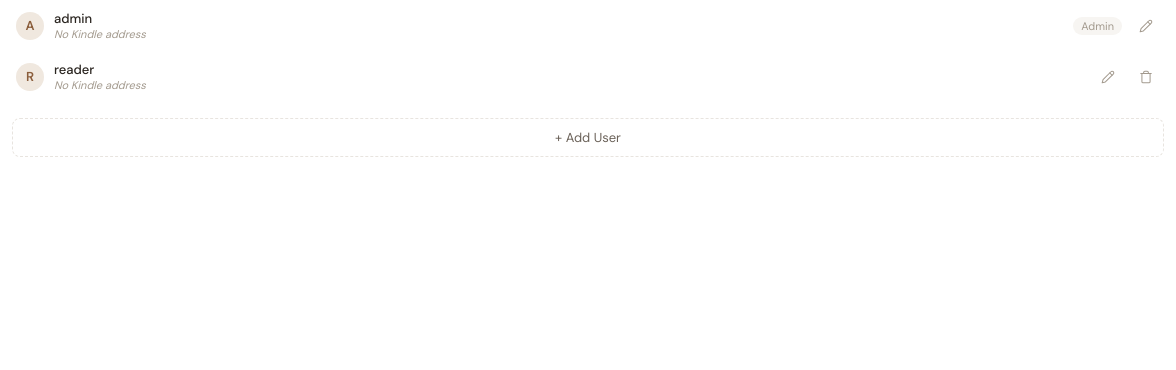
Test: AdminUsersScreen › leaves the password unchanged when the new-password box is left blank
This screenshot has width=1176, height=370.
Expected: the text "reader" is shown, [54,61,94,78]
Click the button named "Edit reader": [1108, 76] box [1094,62,1122,90]
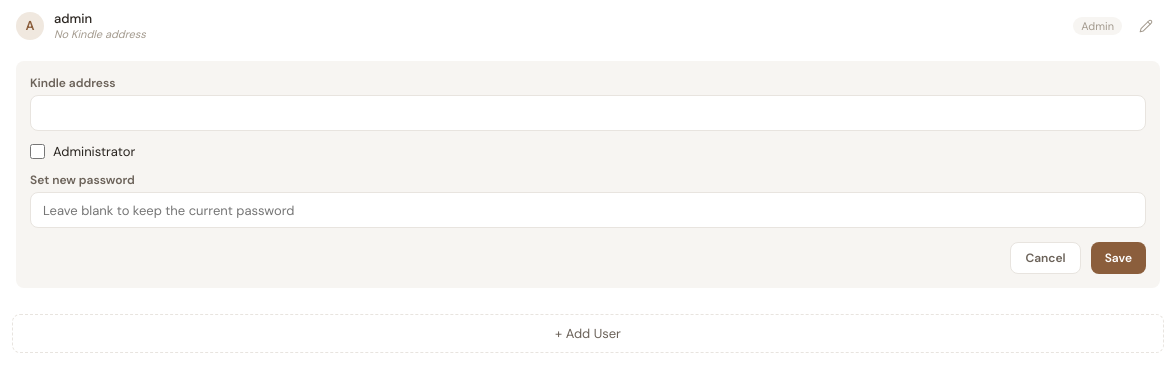
Click the button "Save": [1118, 258] box [1091,242,1146,274]
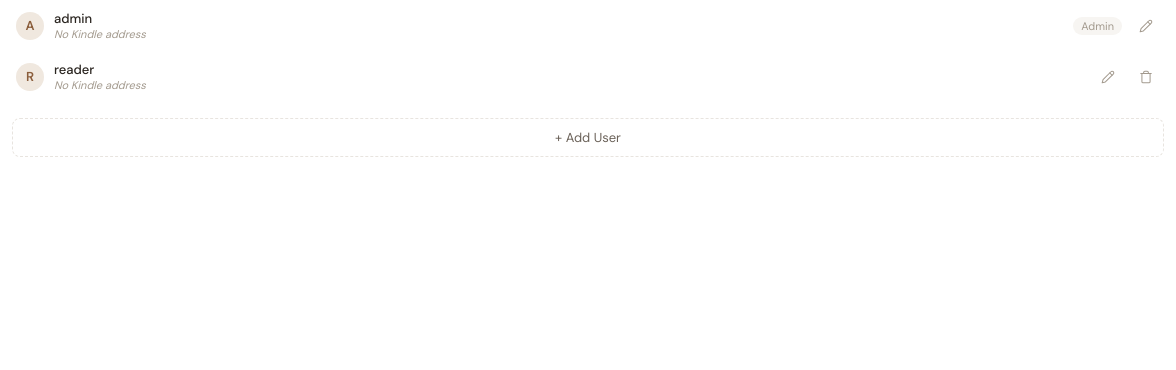
Result: the label labelled "Set new password" is gone
